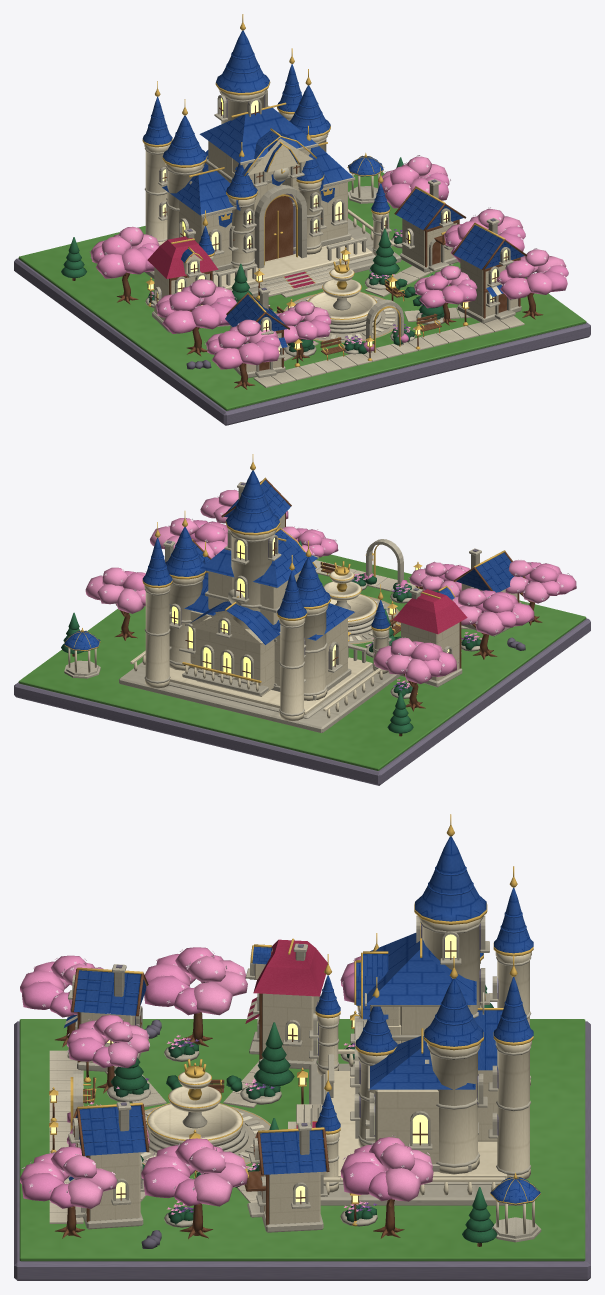
Rendered from central-royal-district-balanced.glb.
3 views of the same model, one above another, from view 1: azimuth 30°, elevation 25°; view 2: azimuth 150°, elevation 25°; view 3: azimuth 270°, elevation 25° (orthographic). The views are drawn at different scales.
Parts seen in each view (by area): view 1: city_level_1, city_level_2, city_level_3; view 2: city_level_1, city_level_2, city_level_3; view 3: city_level_1, city_level_2, city_level_3.
Part boxes in pixels (box(x1,y1,x2,y2)): city_level_1: box(14, 14, 590, 425); city_level_2: box(142, 48, 302, 241); city_level_3: box(199, 167, 391, 282); city_level_1: box(14, 454, 590, 785); city_level_2: box(142, 522, 307, 720); city_level_3: box(202, 541, 391, 673); city_level_1: box(14, 814, 590, 1280); city_level_2: box(488, 866, 533, 1179); city_level_3: box(309, 954, 340, 1192).
Size of the model in its own units: 15.3 by 10.02 by 15.3.
Materials: 15 (15 with a texture image).
